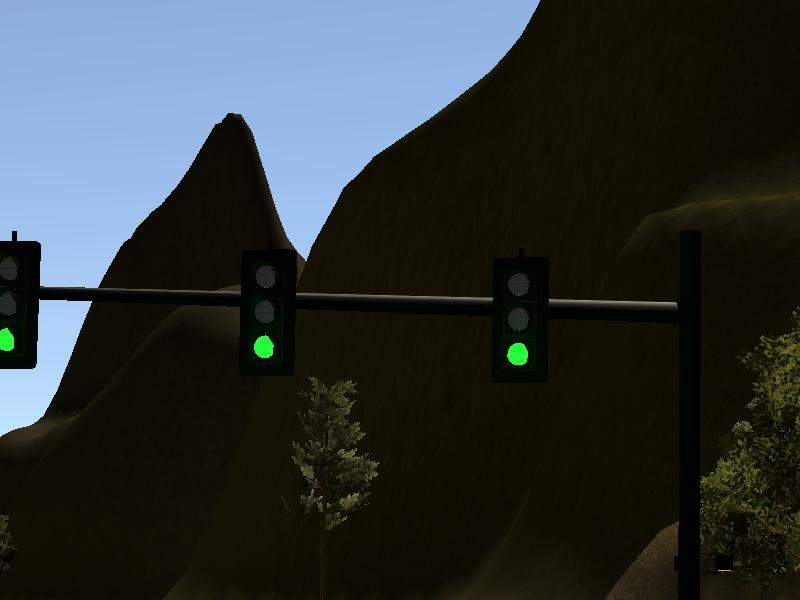GREEN: (241, 250, 296, 372), (491, 261, 546, 383), (1, 241, 42, 369)
